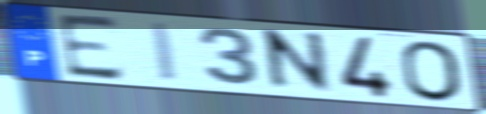3: (195, 26, 262, 88)
4: (339, 34, 397, 100)
E: (54, 12, 127, 83)
I: (148, 20, 181, 86)
N: (264, 27, 334, 95)
O: (397, 39, 468, 104)
